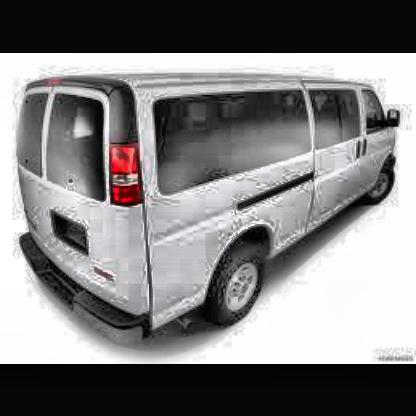GMC Savana Van 2012: (18, 76, 400, 345)
